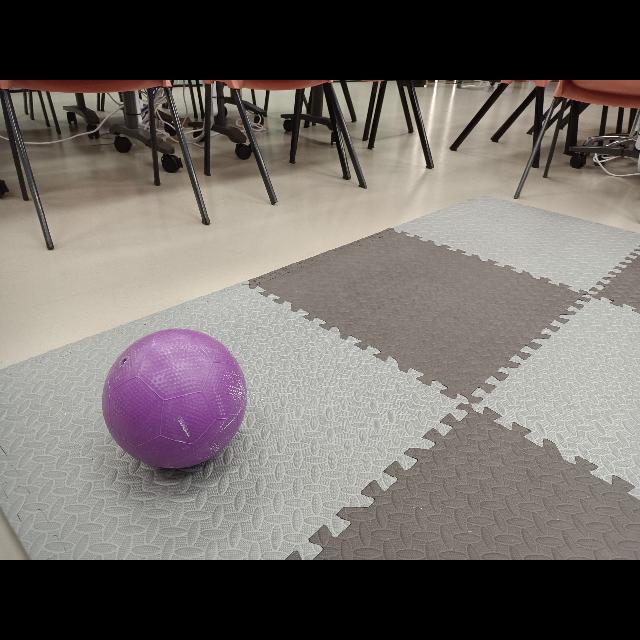P: (102, 336, 250, 474)
